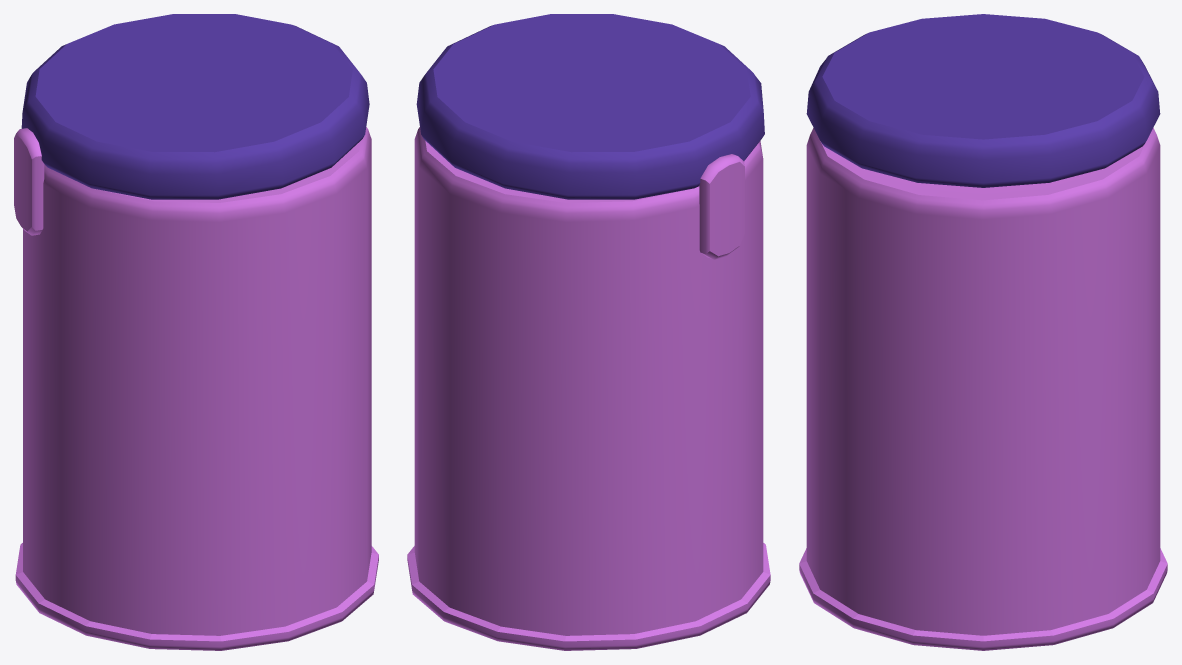
Rendered from Friday_House_trashcan.fbx.
The picture shows the model from 3 angles, left to right: view 1: azimuth 30°, elevation 25°; view 2: azimuth 150°, elevation 25°; view 3: azimuth 270°, elevation 25°; orthographic projection.
Visible parts, largest first — view 1: Trash_Can, Lid; view 2: Trash_Can, Lid; view 3: Trash_Can, Lid.
Boxes of the visible parts, x1,y1,x2,y2 form: Trash_Can: [14, 127, 378, 650]; Lid: [21, 14, 369, 199]; Trash_Can: [407, 127, 770, 650]; Lid: [416, 14, 764, 199]; Trash_Can: [799, 128, 1167, 650]; Lid: [806, 14, 1160, 187].
Bounding box in the file's own units: 39.81 × 60.04 × 39.56.
